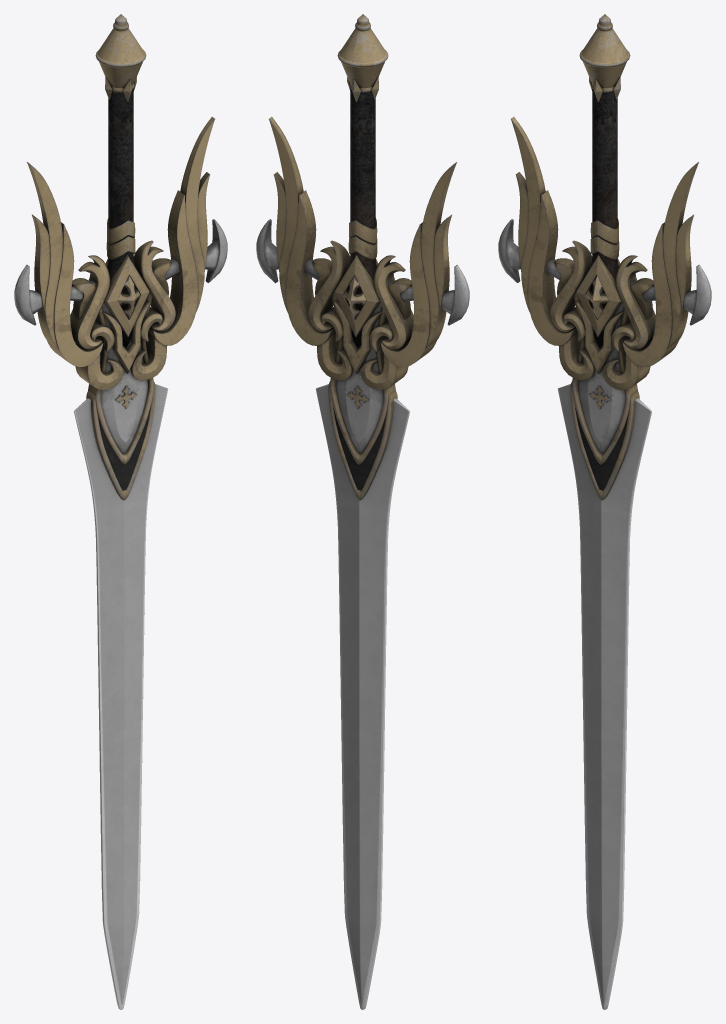
Rendered from Sword.fbx.
3 views of the same model, side by side, from view 1: azimuth 30°, elevation 25°; view 2: azimuth 150°, elevation 25°; view 3: azimuth 330°, elevation 25° (orthographic).
Visible parts, largest first — view 1: Sword_06; view 2: Sword_06; view 3: Sword_06.
Boxes of the visible parts, bbox=[...] form: Sword_06: bbox=[14, 14, 227, 1009]; Sword_06: bbox=[256, 14, 469, 1009]; Sword_06: bbox=[498, 14, 711, 1009].
Bounding box in the file's own units: 1.47 × 6.66 × 0.3083.
